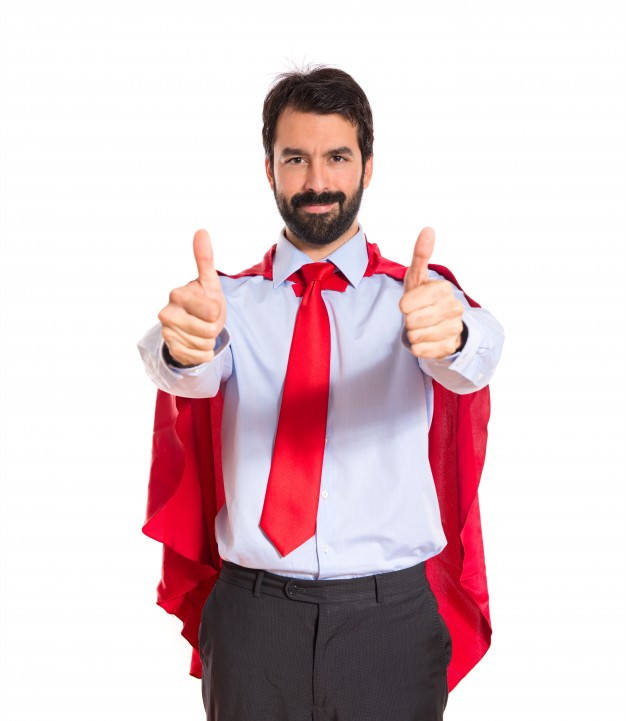thumbsup: (157, 228, 223, 365), (400, 226, 465, 359)
